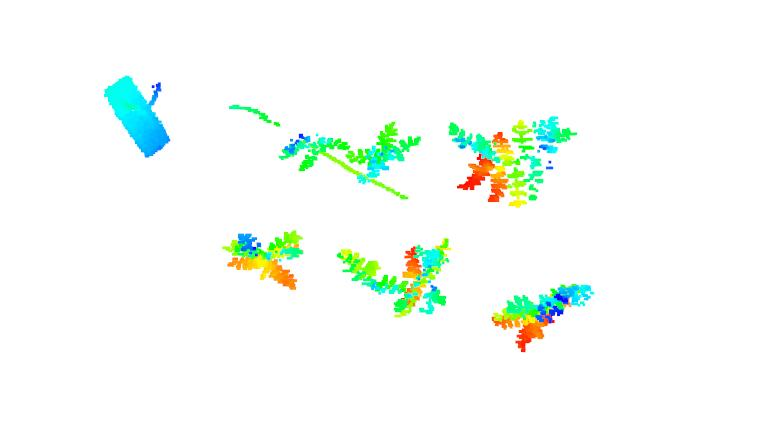chickpea: (447, 112, 578, 206), (483, 283, 596, 354), (225, 227, 304, 292), (393, 235, 453, 318), (348, 120, 421, 184), (276, 133, 355, 172), (335, 246, 397, 295)
